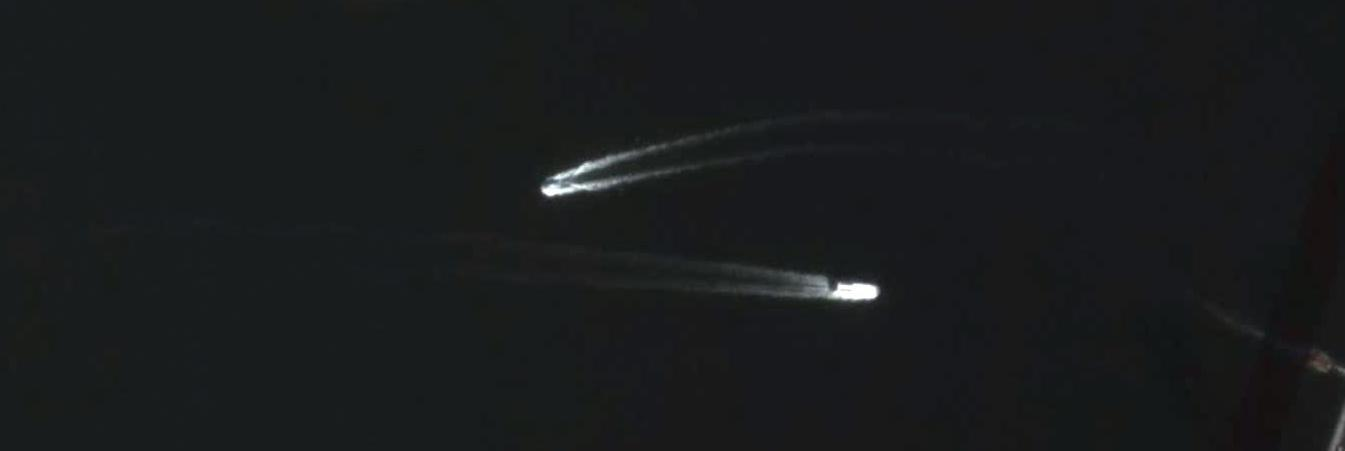person: (835, 282, 880, 301), (540, 178, 559, 187)
